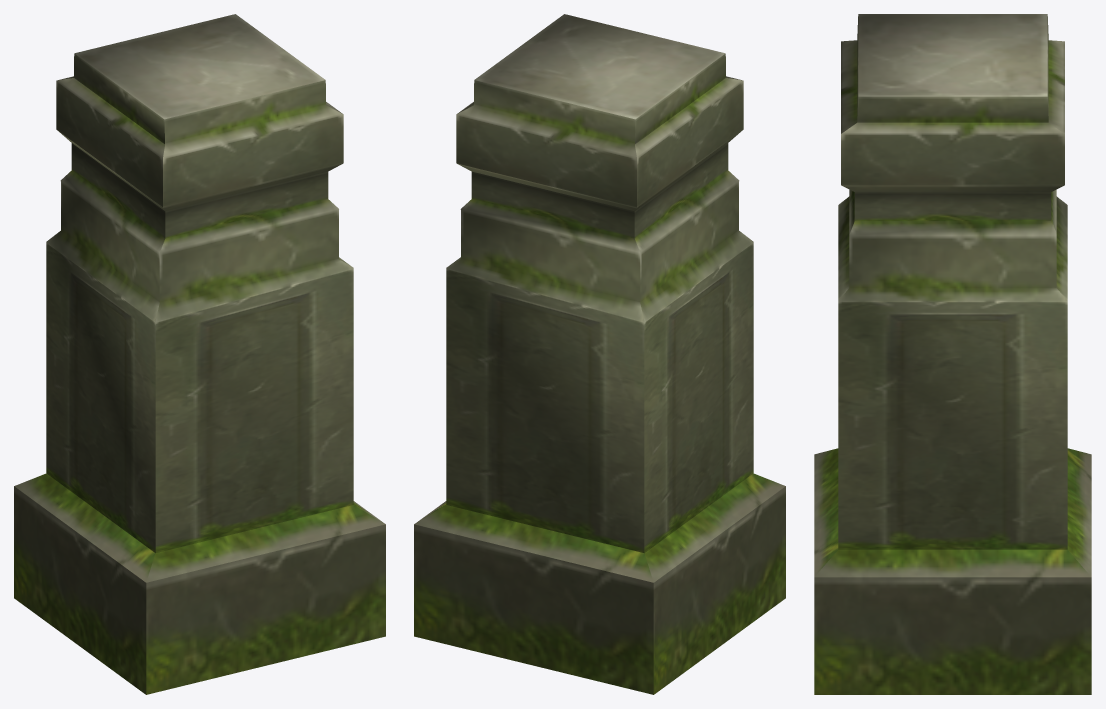
The model's file is qiao02_01.FBX.
3 renders of one model, left to right at view 1: azimuth 30°, elevation 25°; view 2: azimuth 150°, elevation 25°; view 3: azimuth 270°, elevation 25°, orthographic. The views are drawn at different scales.
Visible parts, largest first — view 1: qiao02_01; view 2: qiao02_01; view 3: qiao02_01.
Boxes of the visible parts, left/top/right/bottom form: qiao02_01: left=14, top=14, right=385, bottom=694; qiao02_01: left=414, top=14, right=785, bottom=694; qiao02_01: left=814, top=14, right=1091, bottom=694.
Size of the model in its own units: 123 by 270 by 117.
